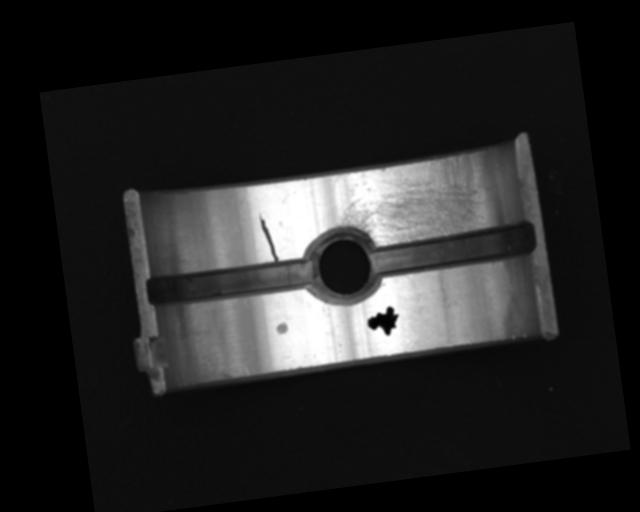blot: (364, 305, 402, 338)
bruise: (274, 321, 289, 335)
gap: (143, 252, 318, 310), (367, 221, 538, 278)
hole: (303, 223, 383, 309)
nick: (256, 210, 279, 264)
scratch: (332, 149, 496, 252)
